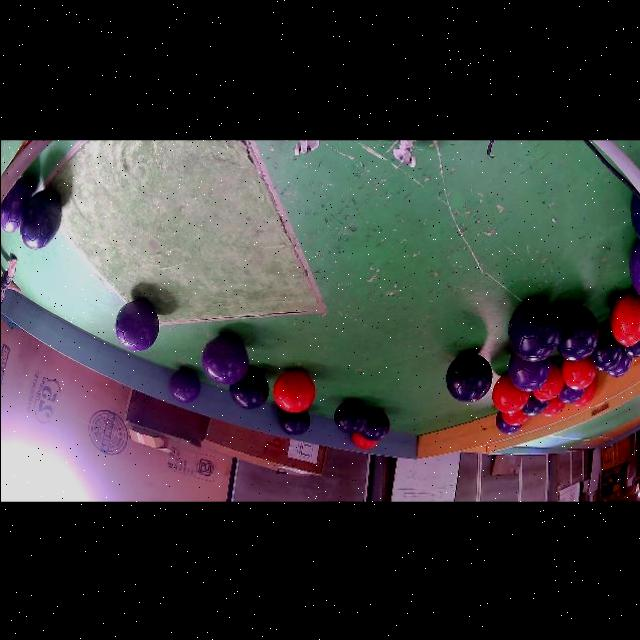B: (507, 297, 561, 360), (19, 189, 60, 248), (445, 351, 492, 401), (556, 303, 597, 360), (590, 322, 623, 370), (229, 369, 268, 408), (333, 399, 369, 433), (360, 409, 389, 439), (278, 409, 309, 434), (521, 392, 548, 415), (629, 194, 640, 242), (624, 338, 640, 356)
P: (201, 333, 248, 384), (114, 299, 158, 350), (0, 176, 33, 231), (507, 353, 551, 390), (169, 367, 200, 401), (606, 350, 631, 376), (628, 240, 640, 294), (494, 411, 521, 433), (557, 382, 585, 403)
R: (272, 370, 314, 411), (610, 292, 640, 345), (492, 372, 528, 413), (532, 361, 564, 399), (561, 357, 595, 389), (572, 379, 595, 406), (542, 396, 565, 415), (501, 409, 528, 425), (351, 433, 377, 448)
